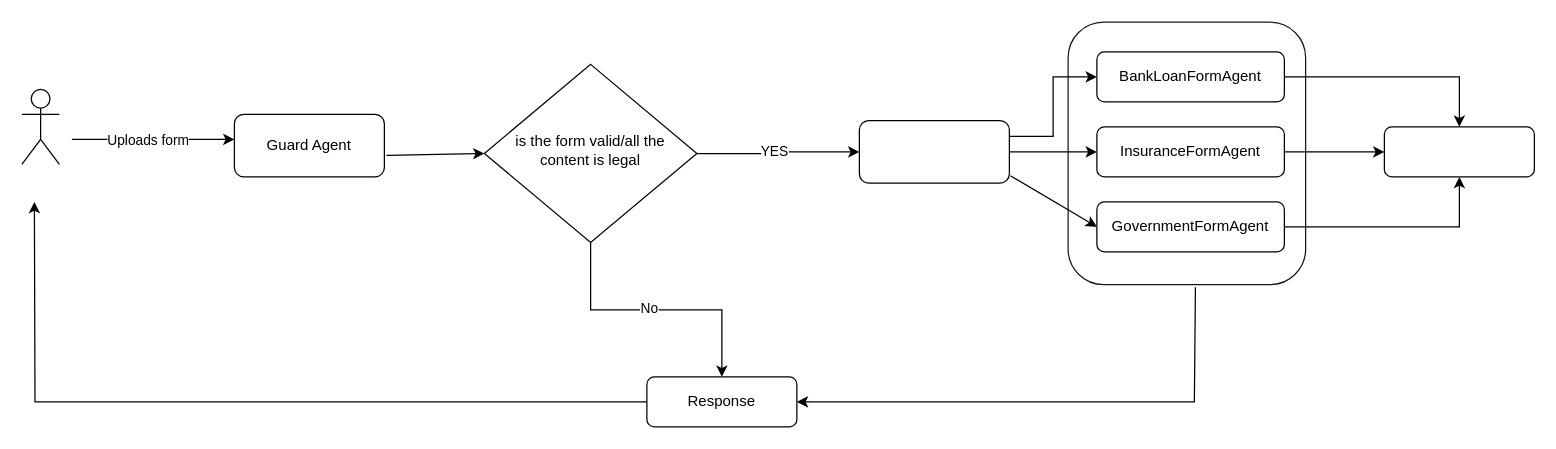
Some shapes in this 1556 by 449 pixel diagram are drawn without their labels. The centre of each missing label's shape, as x and y in pixels:
Actor: pixel 40 126
Classifier Agent: pixel 933 151
VectorDB-Collection: pixel 1458 151
